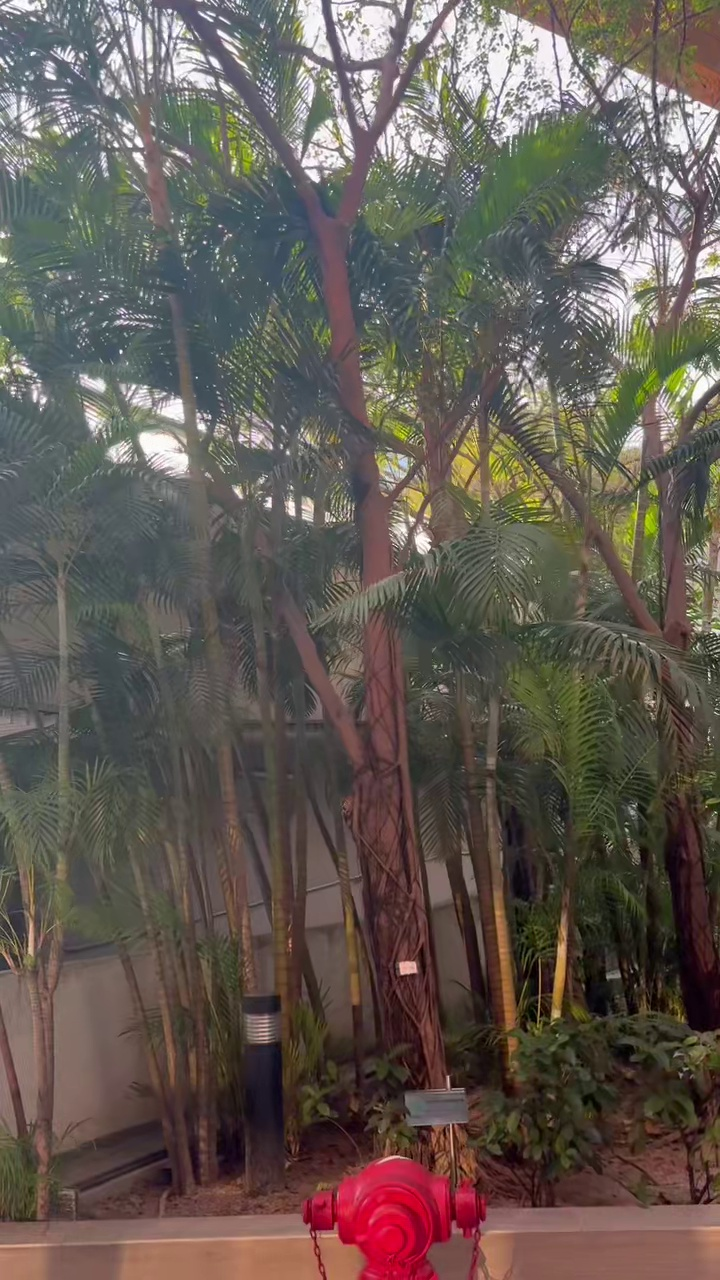Ficus benjamina: (168, 0, 456, 1088)
